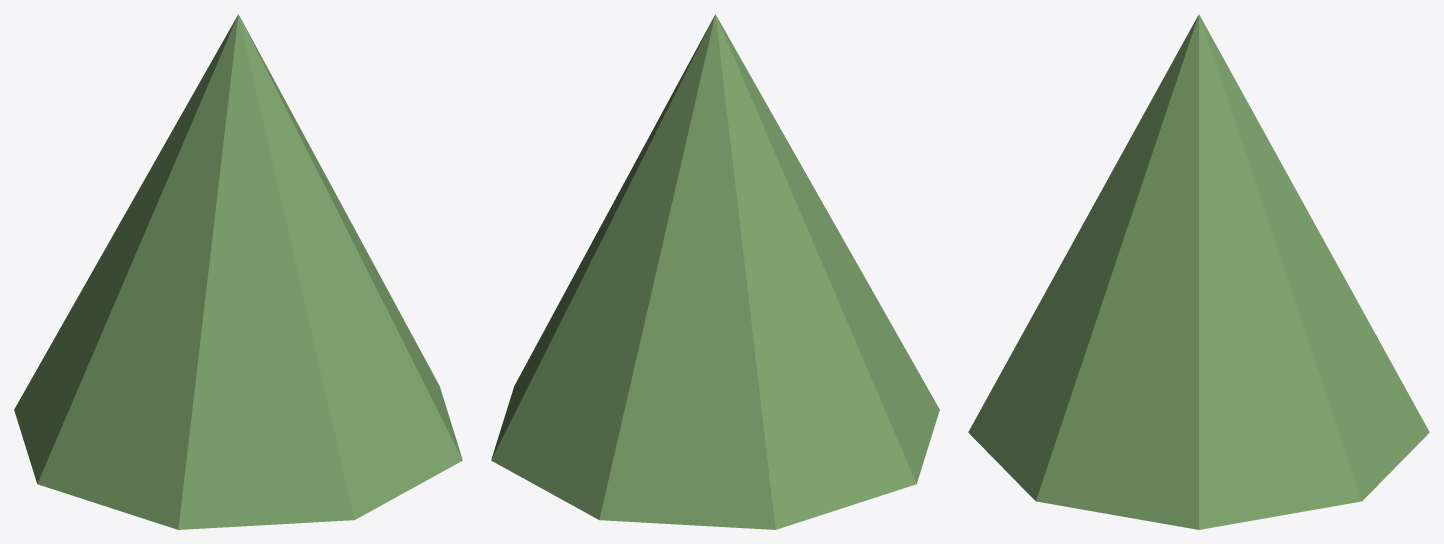
File: prim_cone_green.glb
3 views of the same model, side by side, from view 1: azimuth 30°, elevation 25°; view 2: azimuth 150°, elevation 25°; view 3: azimuth 270°, elevation 25° (orthographic).
Parts seen in each view (by area): view 1: prim_cone_green; view 2: prim_cone_green; view 3: prim_cone_green.
Part boxes in pixels (left/top/right/bottom): prim_cone_green: left=14, top=14, right=462, bottom=529; prim_cone_green: left=491, top=14, right=939, bottom=529; prim_cone_green: left=968, top=14, right=1429, bottom=529.
Bounding box in the file's own units: 1 × 1 × 1.
